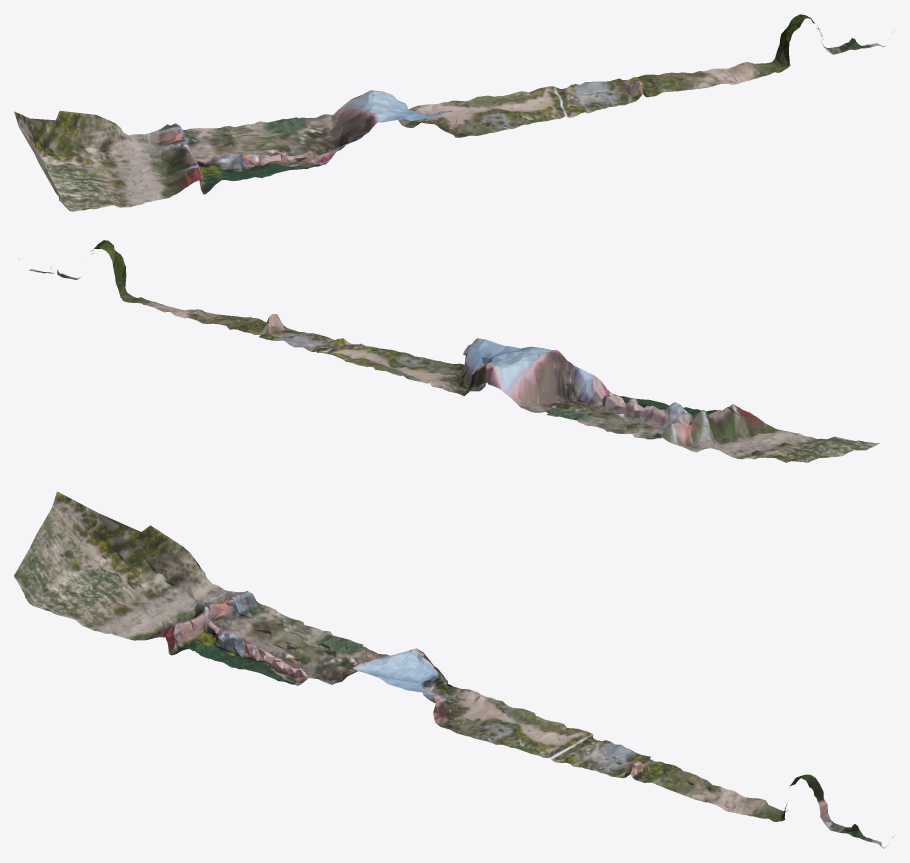
Rendered from MODELO14.glb.
3 views of the same model, one above another, from view 1: azimuth 30°, elevation 25°; view 2: azimuth 150°, elevation 25°; view 3: azimuth 330°, elevation 25° (orthographic). The views are drawn at different scales.
Bounding box in the file's own units: 101 × 12.47 × 13.
1 material, 1 textured.
